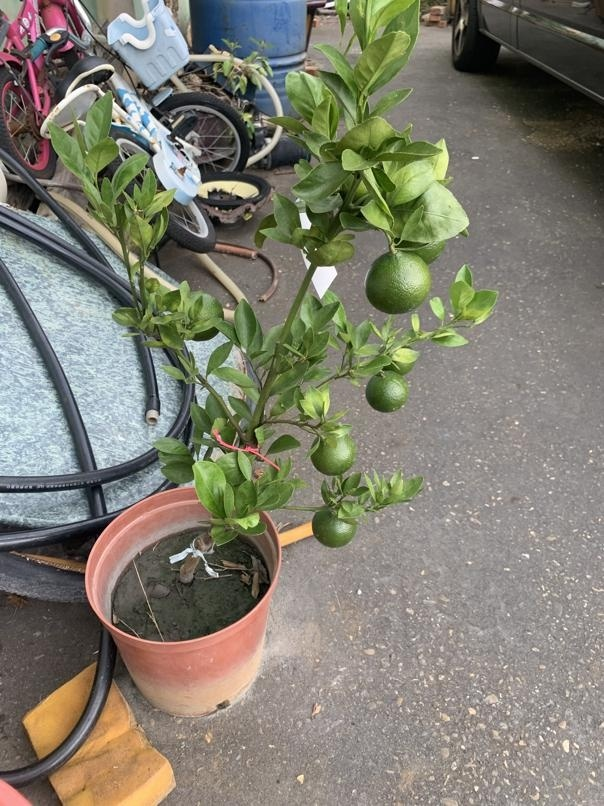Tangerine: (367, 247, 433, 315), (309, 502, 358, 550), (307, 430, 354, 475), (367, 368, 409, 413)
